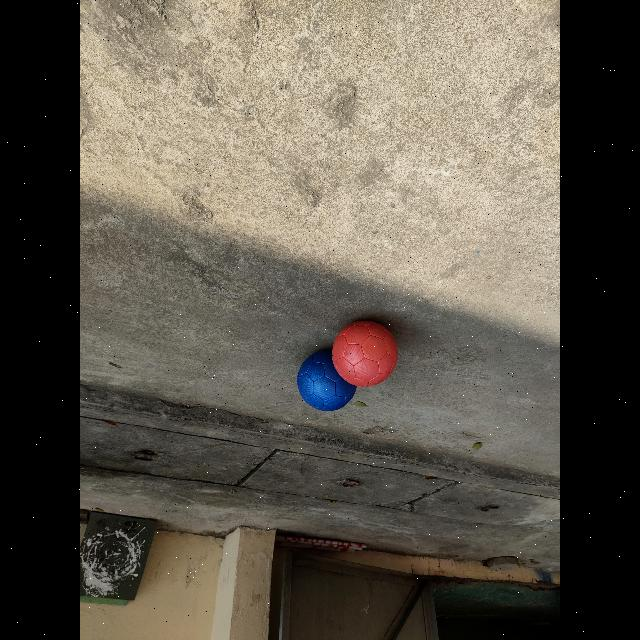B: (298, 350, 356, 411)
R: (332, 321, 398, 386)
